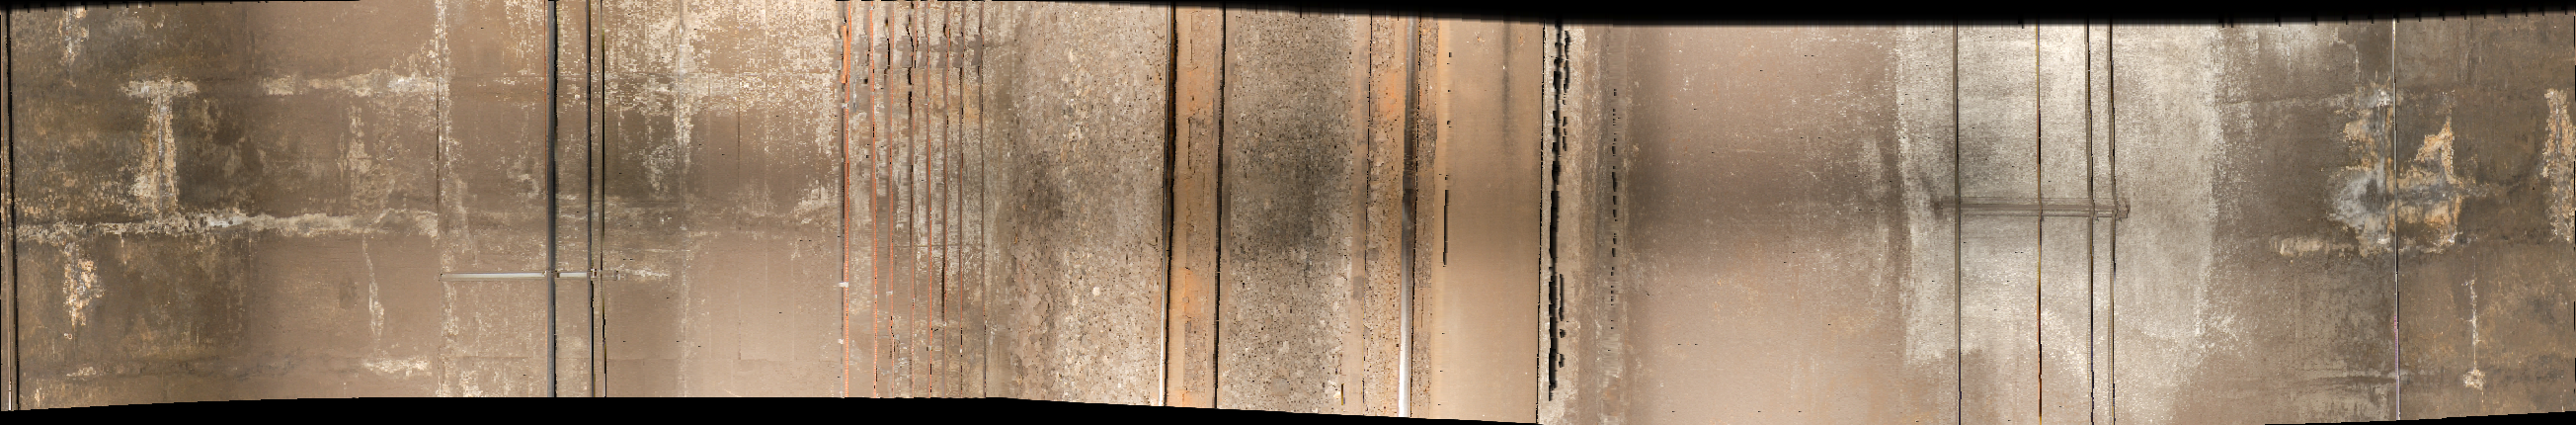pipes: (830, 7, 994, 425), (2027, 31, 2139, 425), (536, 7, 616, 423), (1940, 31, 1976, 425)
tracks: (1160, 8, 1549, 425)
